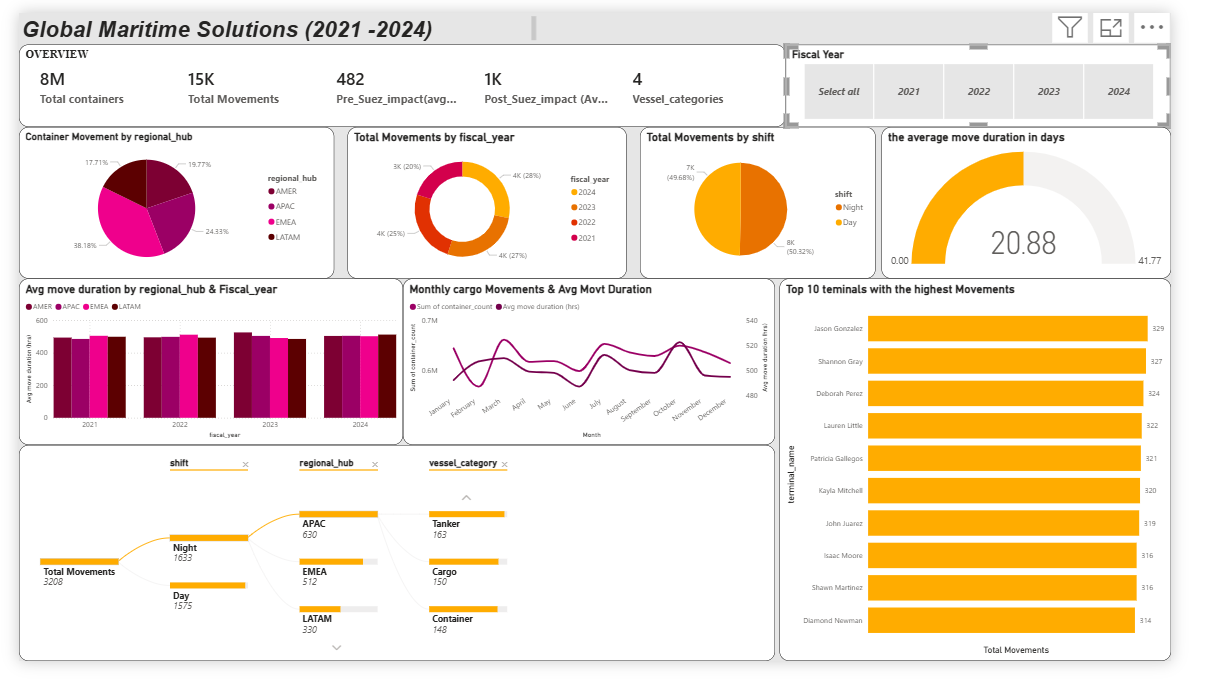

Layout of this report page (visuals, bound fields, positions):
{"tool":"powerbi","page":{"name":"Overview","canvas":[1920,1080],"ordinal":0},"visuals":[{"type":"textbox","box":[0,0,866.7,51.7],"z":0},{"type":"lineChart","title":"Monthly cargo Movements & Avg Movt Duration","fields":{"Y":["Sum(Fact Cargo Movements.container_count)"],"Category":["Time.date_id.Variation.Date Hierarchy.Month"],"Y2":["Dax.Avg move duration"]},"box":[640,442.5,620,277.5],"z":1000},{"type":"clusteredColumnChart","title":"Avg move duration by regional_hub & Fiscal_year","fields":{"Category":["Time.fiscal_year"],"Y":["Dax.Avg move duration"],"Series":["Terminal.regional_hub"]},"box":[0,442.5,640,277.5],"z":2000},{"type":"pieChart","title":"Container Movement by regional_hub","fields":{"Y":["Sum(Fact Cargo Movements.container_count)"],"Series":["Terminal.regional_hub"]},"box":[0,190,525,252.5],"z":3000},{"type":"cardVisual","title":"OVERVIEW","fields":{"Data":["Dax.Total containers","Dax.Total Movements","Dax.Pre_Suez_impact","Dax.Post_Suez_impact","Count(Vessel.vessel_category)"]},"box":[0,52.5,1277.5,137.5],"z":5000},{"type":"donutChart","fields":{"Category":["Time.fiscal_year"],"Y":["Dax.Total Movements"]},"box":[547.5,190,465,252.5],"z":5001},{"type":"decompositionTreeVisual","fields":{"Analyze":["Dax.Total Movements"],"ExplainBy":["Time.shift","Terminal.regional_hub","Vessel.vessel_category"]},"box":[0,720,1260,360],"z":5002},{"type":"pieChart","fields":{"Category":["Time.shift"],"Y":["Dax.Total Movements"]},"box":[1035,190,392.5,252.5],"z":5003},{"type":"clusteredBarChart","title":"Top 10 teminals with the highest Movements","fields":{"Category":["Terminal.terminal_name"],"Y":["Dax.Total Movements"]},"box":[1267.5,442.5,652.5,637.5],"z":5004},{"type":"slicer","title":"Fiscal Year","fields":{"Values":["Time.fiscal_year"]},"box":[1277.5,52.5,642.5,137.5],"z":5005},{"type":"gauge","title":"the average move duration in days ","fields":{"Y":["Dax.Average move duration (days)"]},"box":[1437.5,190,482.5,252.5],"z":5006}]}

Visuals, with their boxes in screenshot pixels (x1, y1, x2, y2), scaled from the page's 1920x1080 canvas onto the 1207x690 screenshot:
textbox: {"left": 0, "top": 0, "right": 545, "bottom": 33}
"Monthly cargo Movements & Avg Movt Duration" lineChart: {"left": 402, "top": 283, "right": 792, "bottom": 460}
"Avg move duration by regional_hub & Fiscal_year" clusteredColumnChart: {"left": 0, "top": 283, "right": 402, "bottom": 460}
"Container Movement by regional_hub" pieChart: {"left": 0, "top": 121, "right": 330, "bottom": 283}
"OVERVIEW" cardVisual: {"left": 0, "top": 34, "right": 803, "bottom": 121}
donutChart - Time.fiscal_year x Dax.Total Movements: {"left": 344, "top": 121, "right": 637, "bottom": 283}
decompositionTreeVisual - Dax.Total Movements x Time.shift: {"left": 0, "top": 460, "right": 792, "bottom": 689}
pieChart - Time.shift x Dax.Total Movements: {"left": 651, "top": 121, "right": 897, "bottom": 283}
"Top 10 teminals with the highest Movements" clusteredBarChart: {"left": 797, "top": 283, "right": 1206, "bottom": 689}
"Fiscal Year" slicer: {"left": 803, "top": 34, "right": 1206, "bottom": 121}
"the average move duration in days " gauge: {"left": 904, "top": 121, "right": 1206, "bottom": 283}
